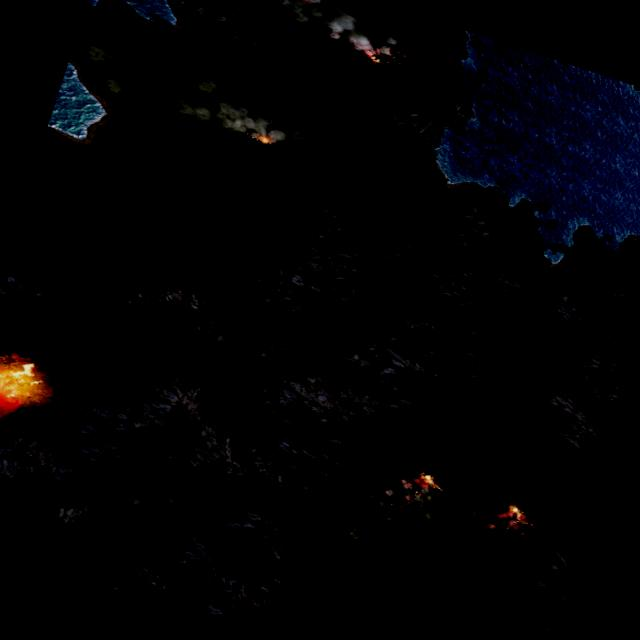fire: (0, 344, 53, 430), (392, 466, 444, 512), (490, 500, 531, 536), (361, 43, 389, 66), (252, 132, 274, 148), (292, 0, 330, 6)
smoke: (168, 74, 316, 160), (263, 0, 409, 60)
